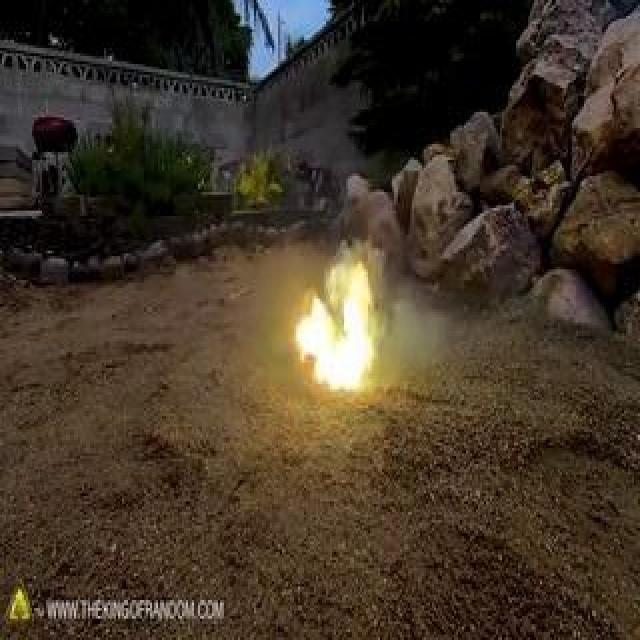Fire: (80, 160, 326, 318)
